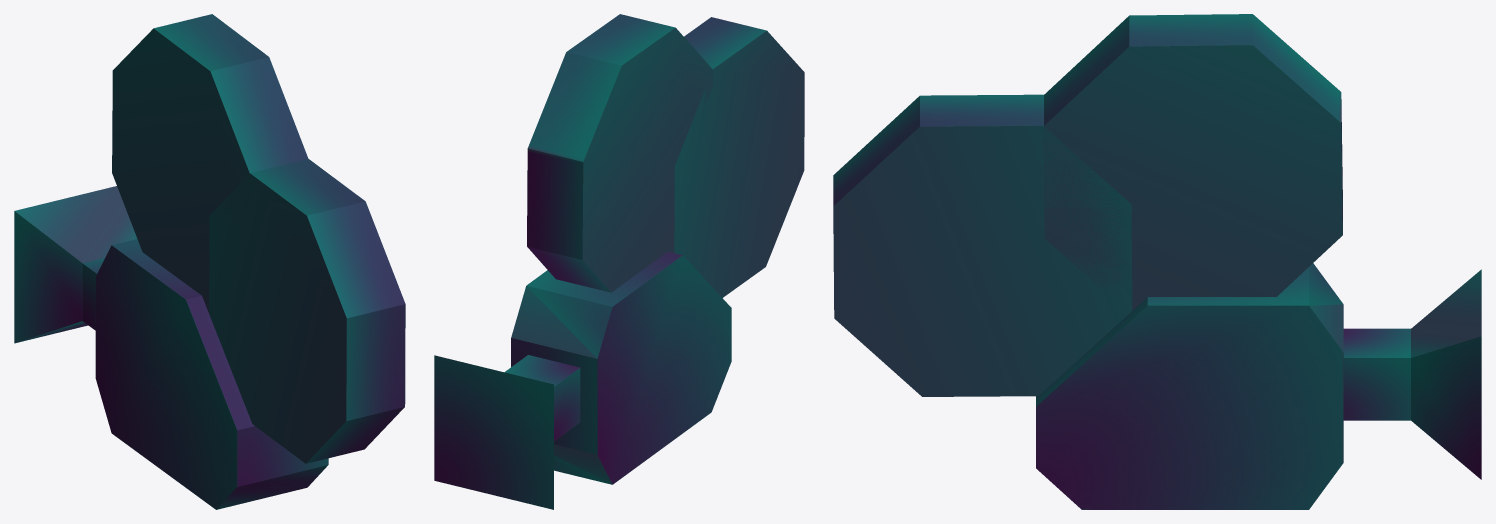
The model's file is camera.dae.
3 views of the same model, side by side, from view 1: azimuth 30°, elevation 25°; view 2: azimuth 150°, elevation 25°; view 3: azimuth 270°, elevation 25° (orthographic). The views are drawn at different scales.
Visible parts, largest first — view 1: camera; view 2: camera; view 3: camera.
Boxes of the visible parts, <box> form: camera: <box>14,14,405,509</box>; camera: <box>434,14,804,509</box>; camera: <box>833,14,1481,509</box>.
Bounding box in the file's own units: 11.27 × 46.02 × 35.72.
